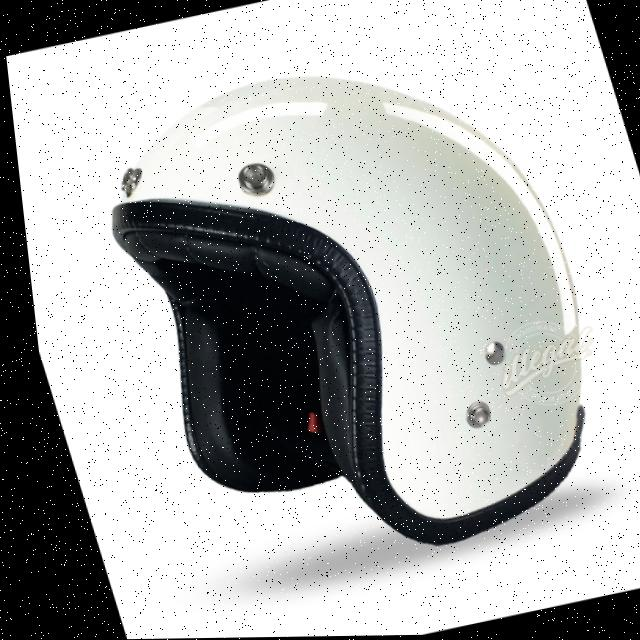helmet: (48, 10, 640, 607)
